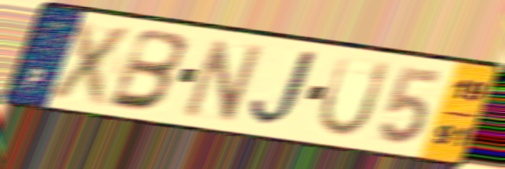5: (377, 63, 449, 146)
B: (103, 26, 192, 114)
J: (246, 47, 327, 130)
N: (180, 35, 268, 124)
U: (314, 53, 395, 140)
X: (43, 17, 142, 109)
